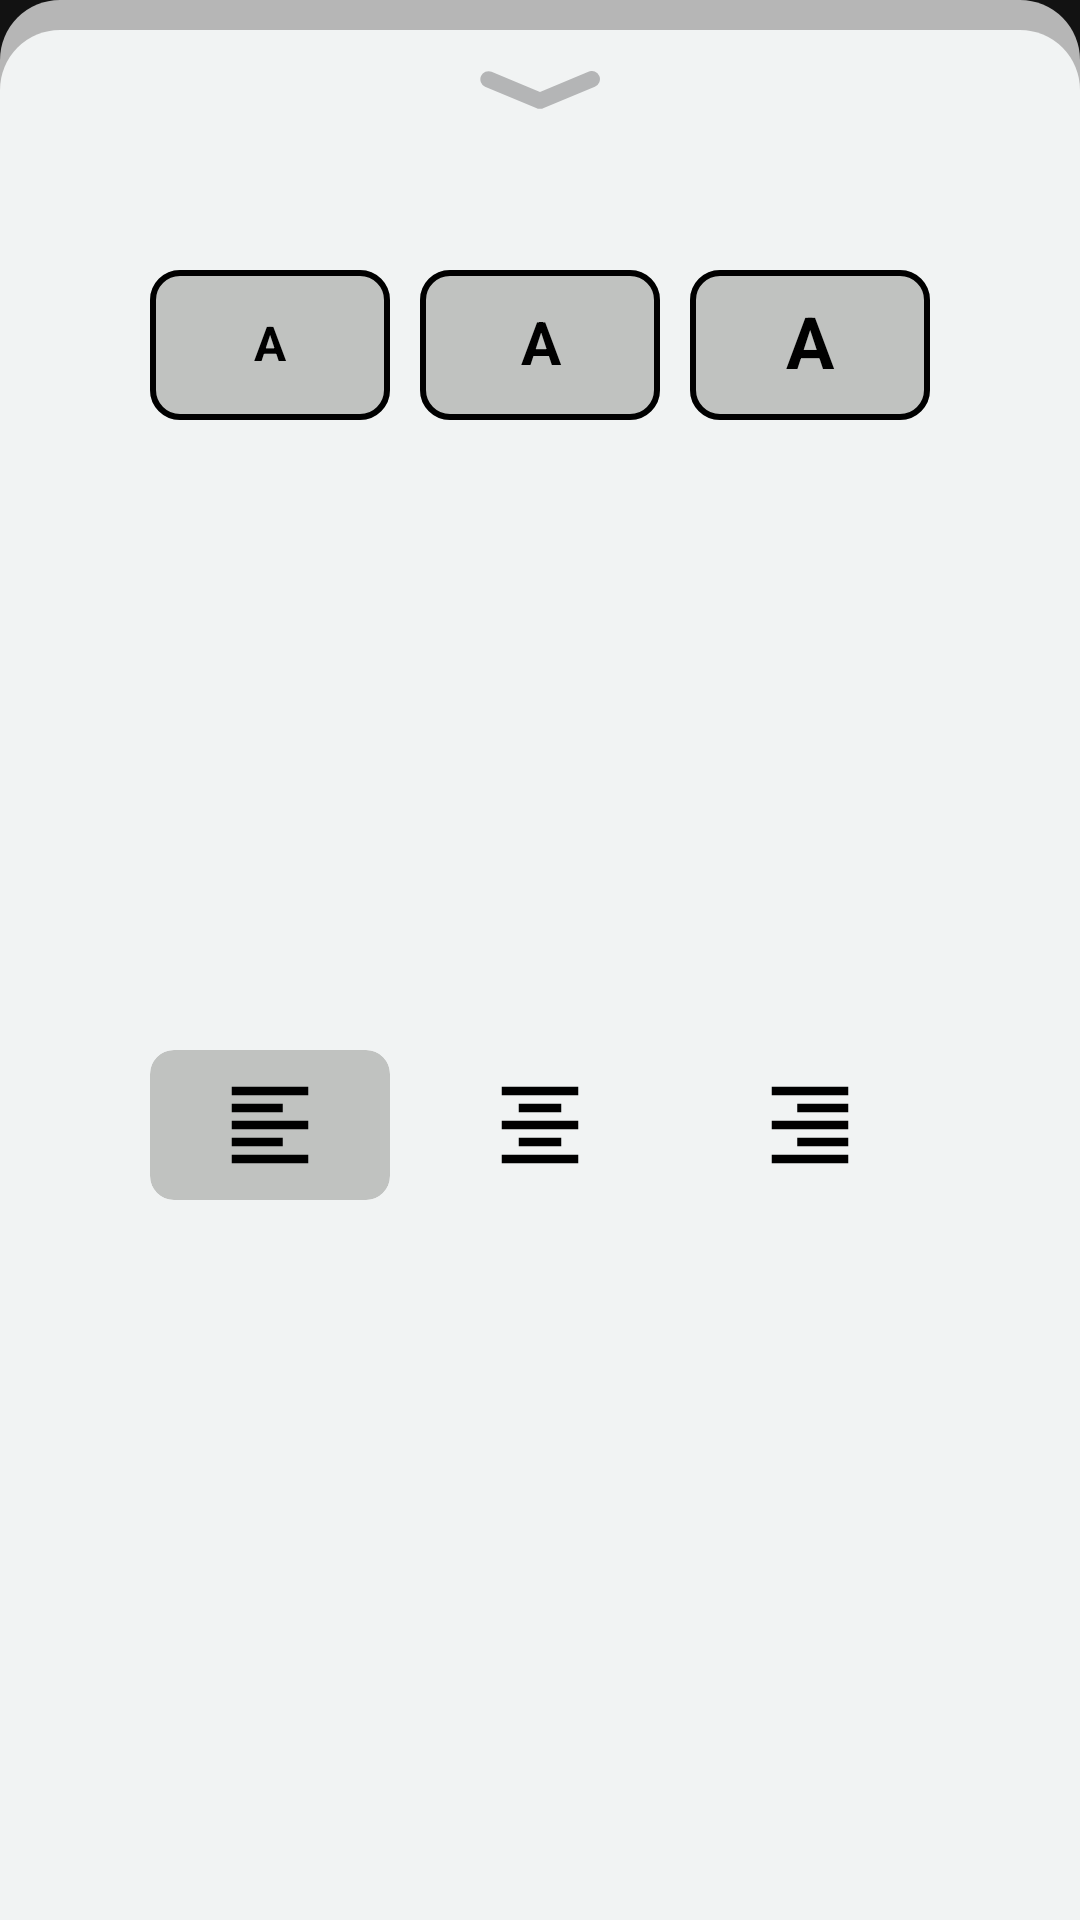

Icon click points for this 1080 x 1920 phone screenshot, format (x=x, y=y):
arrow bottomsheet: (x=540, y=90)
format align center: (x=540, y=1125)
format align left: (x=270, y=1125)
format align right: (x=810, y=1125)
